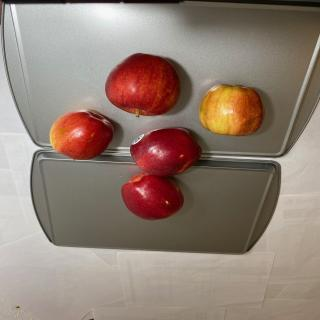Apple: (105, 53, 181, 117), (130, 127, 202, 177), (199, 84, 264, 136), (49, 110, 114, 160), (121, 171, 184, 221)
